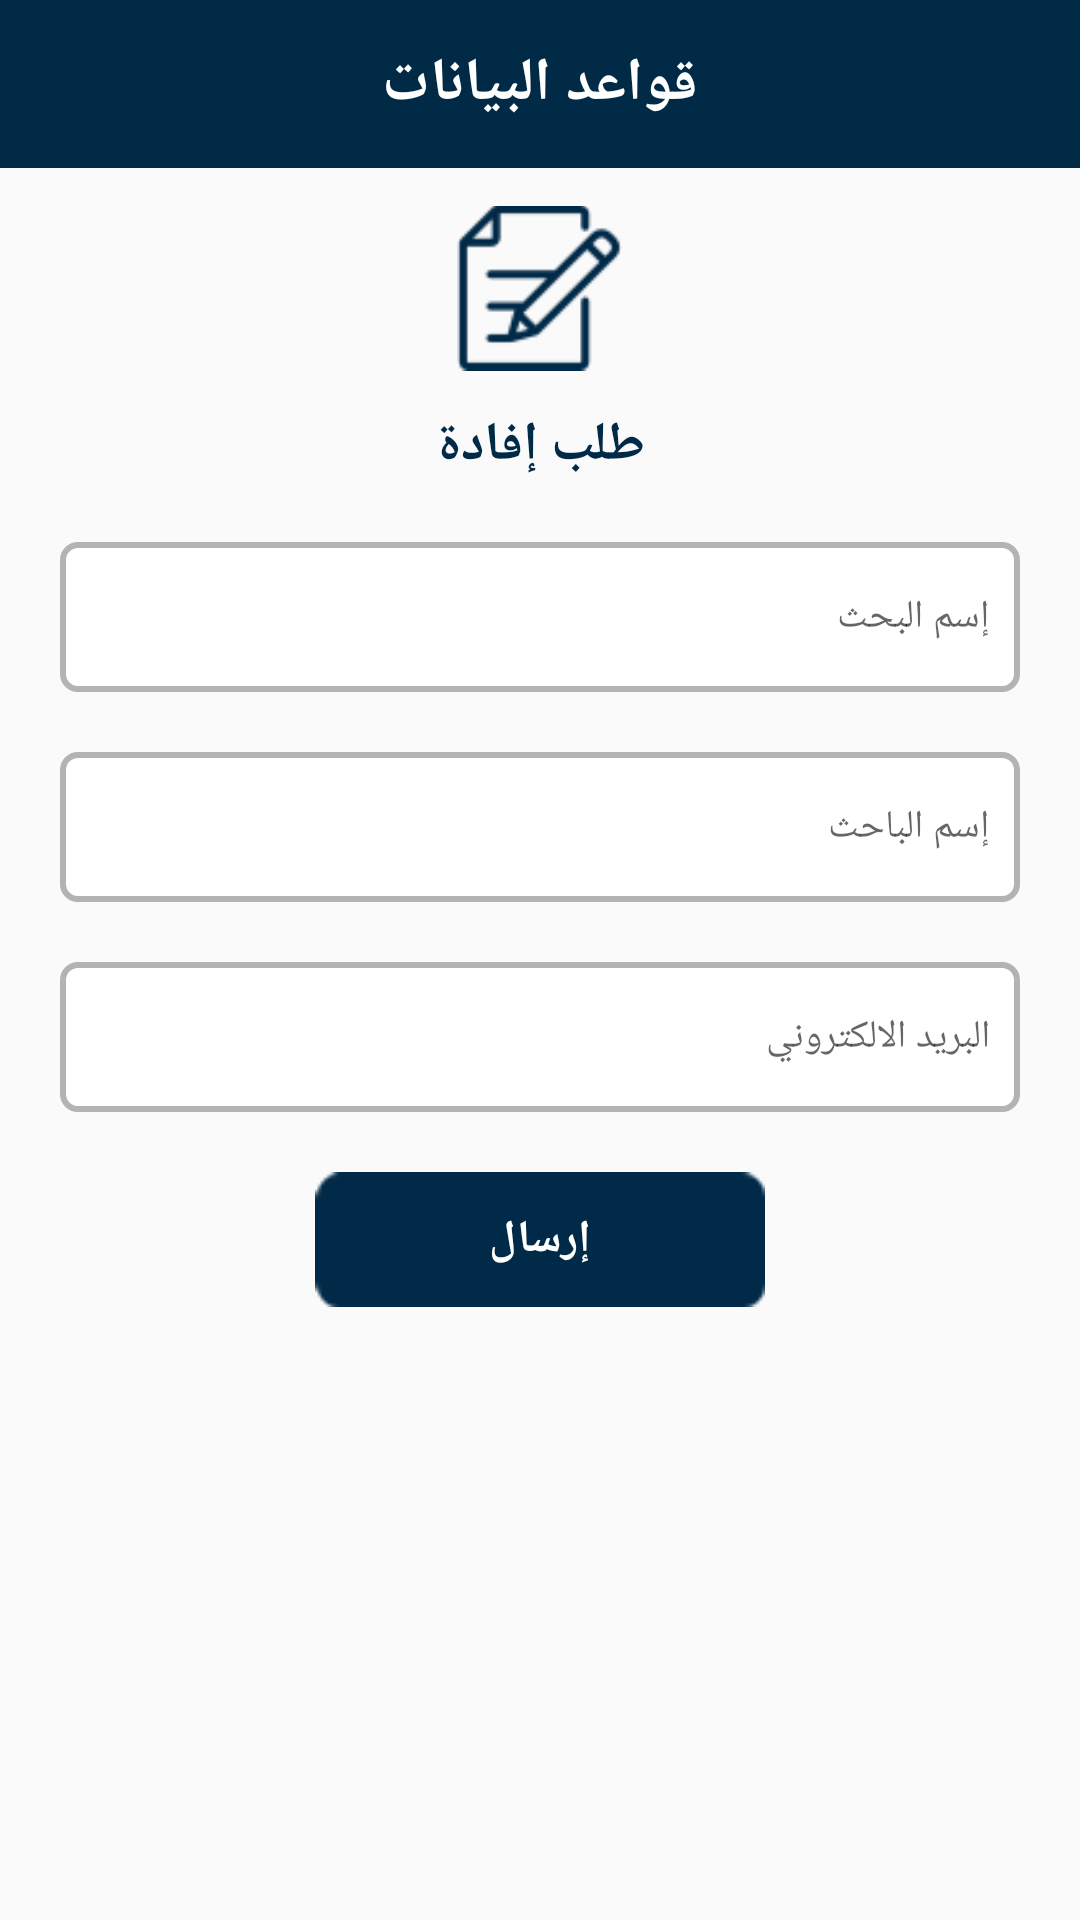

Point at icon controls on the screen. Image size 1080 × 1920, points as point (x, y).
edit: point (539, 288)
